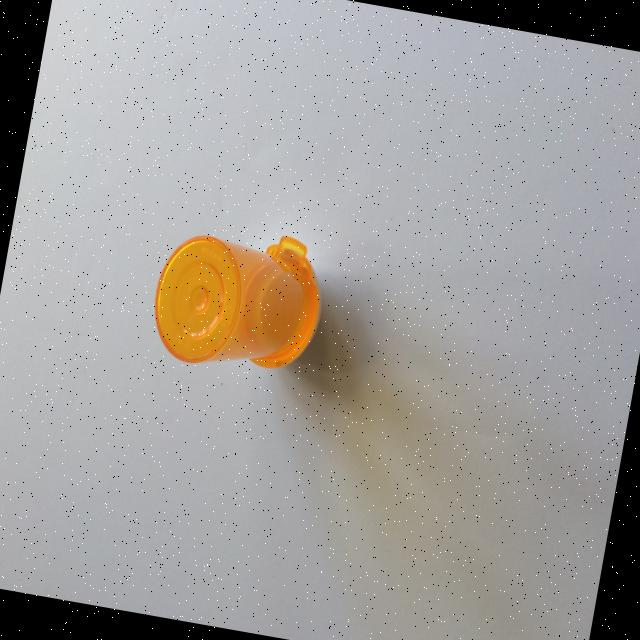plastic: (144, 213, 332, 384)
